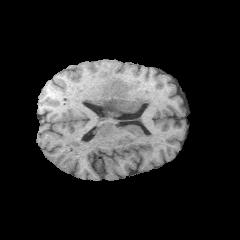glioma: (103, 80, 127, 115)
